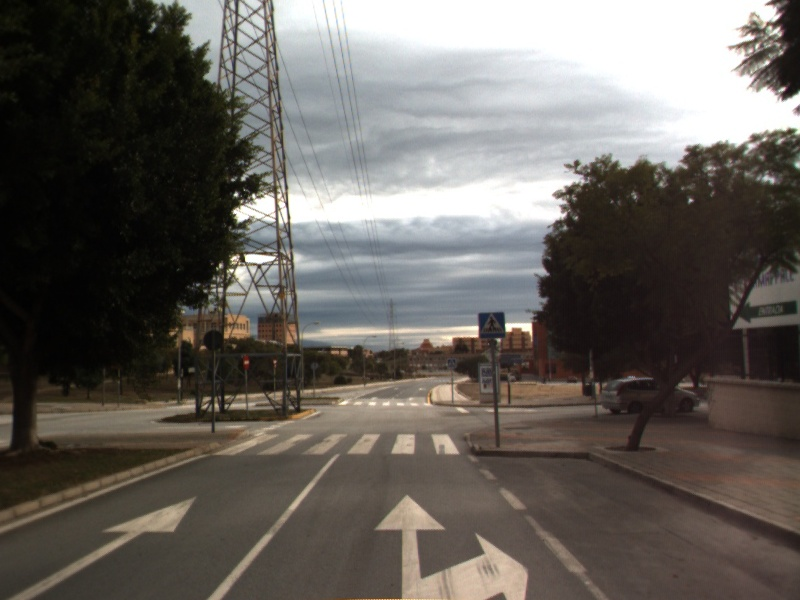STRAIGHT: (4, 491, 201, 600)
STRAIGHT_RIGHT: (371, 491, 532, 600)
